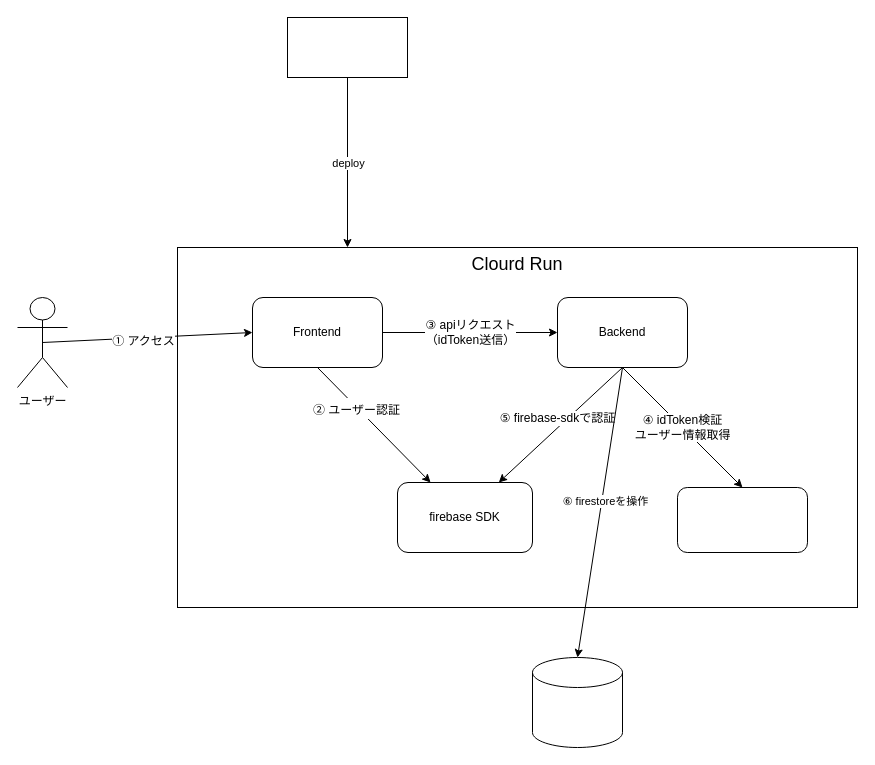
This 875x765 diagram has some shape labels left out. The shapes that lost their labels are listed below. From the top down, each one's centre as x and y in pixels, then its label:
At pixel 347 47: "ローカル".
At pixel 742 519: "firebase admin SDK".
At pixel 577 702: "Firestore".
